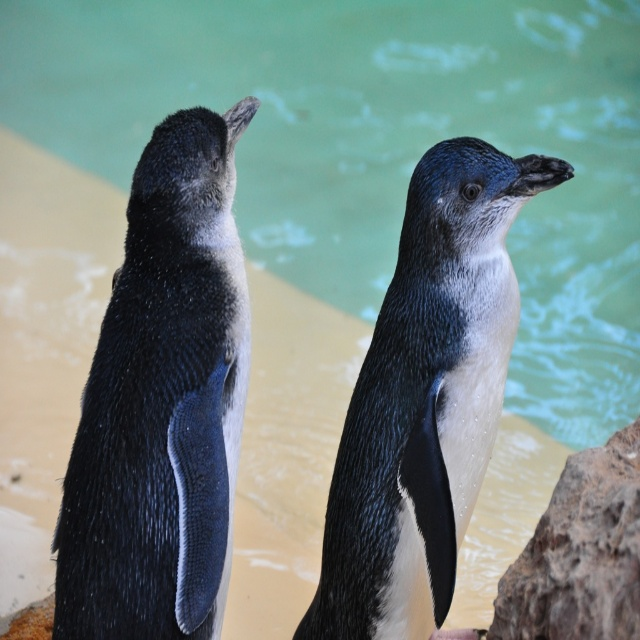Penguin: (292, 137, 575, 640), (51, 96, 261, 640)
